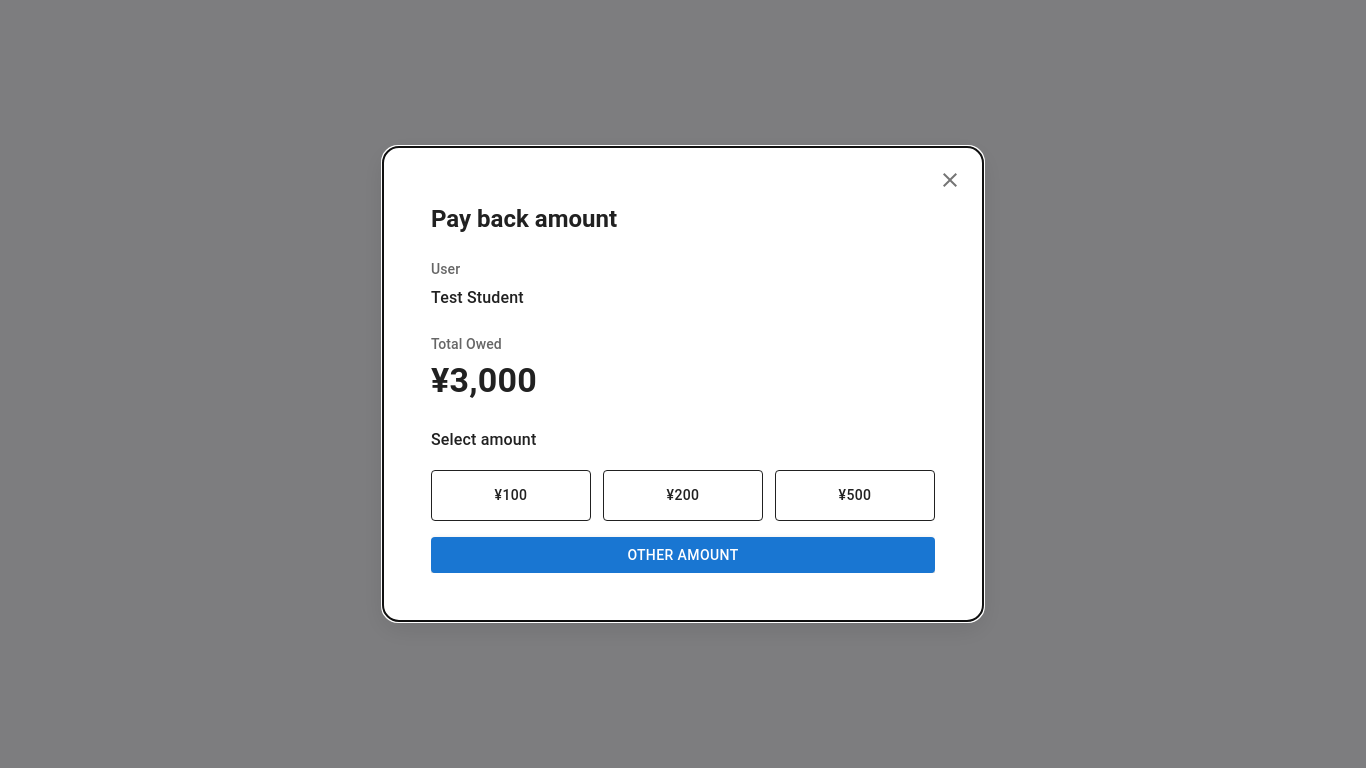
Test case: PaybackModal › shows error alert when pay rejects
Click the button "¥100".
click(511, 496)  # box [431,470,591,521]
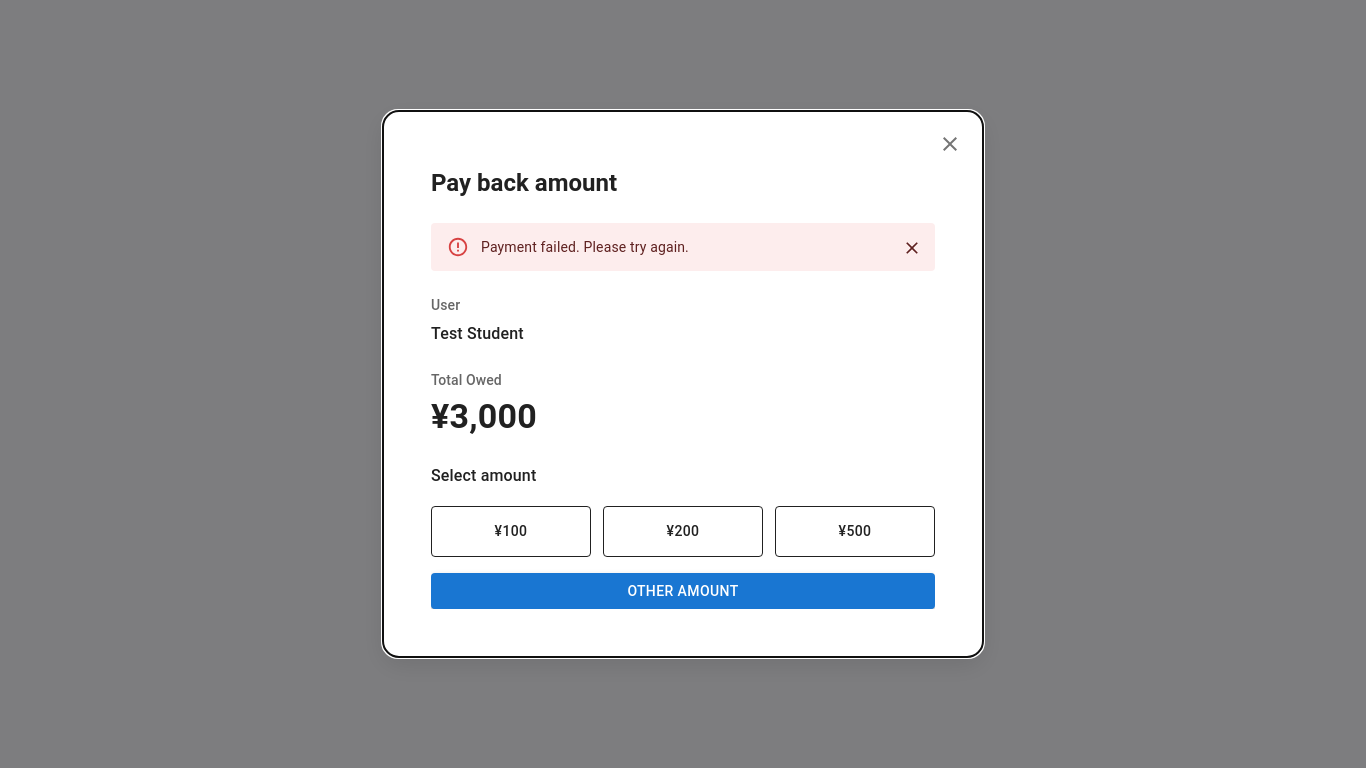
Check: the message "Payment failed. Please try again." is shown, box [431,223,935,271]
